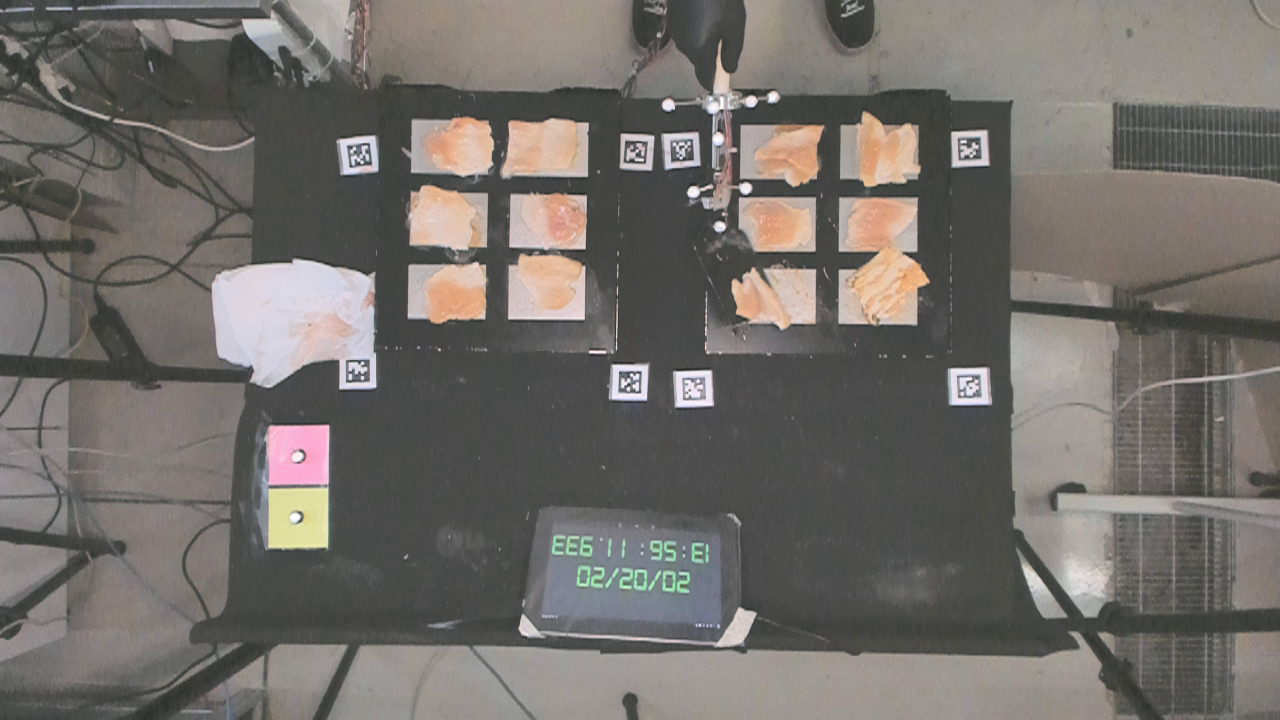chicken: (852, 105, 923, 188), (851, 246, 926, 322), (398, 186, 482, 250), (503, 117, 581, 179), (514, 251, 584, 310), (427, 258, 487, 326), (423, 116, 492, 175), (738, 195, 810, 251), (521, 187, 586, 248), (727, 270, 794, 328), (751, 126, 822, 180), (846, 200, 920, 245)
marker: (268, 426, 329, 485)
